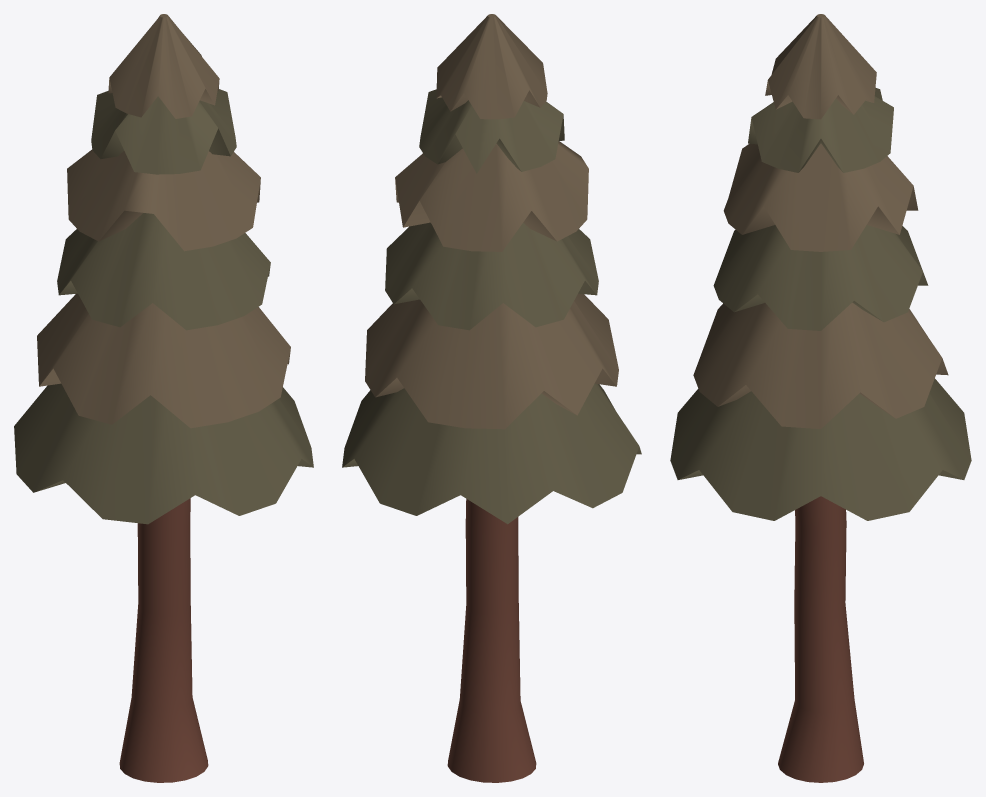
The model's file is Lowpoly_Tree_ver2.fbx.
3 views of the same model, side by side, from view 1: azimuth 30°, elevation 25°; view 2: azimuth 150°, elevation 25°; view 3: azimuth 270°, elevation 25° (orthographic).
Parts seen in each view (by area): view 1: Lowpoly_Tree_ver2; view 2: Lowpoly_Tree_ver2; view 3: Lowpoly_Tree_ver2.
Part boxes in pixels (bbox=[...]): Lowpoly_Tree_ver2: bbox=[14, 14, 313, 782]; Lowpoly_Tree_ver2: bbox=[342, 14, 641, 782]; Lowpoly_Tree_ver2: bbox=[670, 14, 971, 782].
Size of the model in its own units: 10.07 by 27.6 by 10.07.
